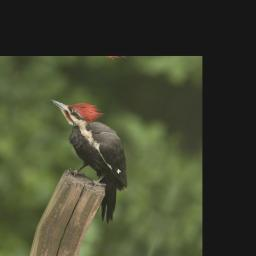Woodpecker: (13, 87, 161, 230)
